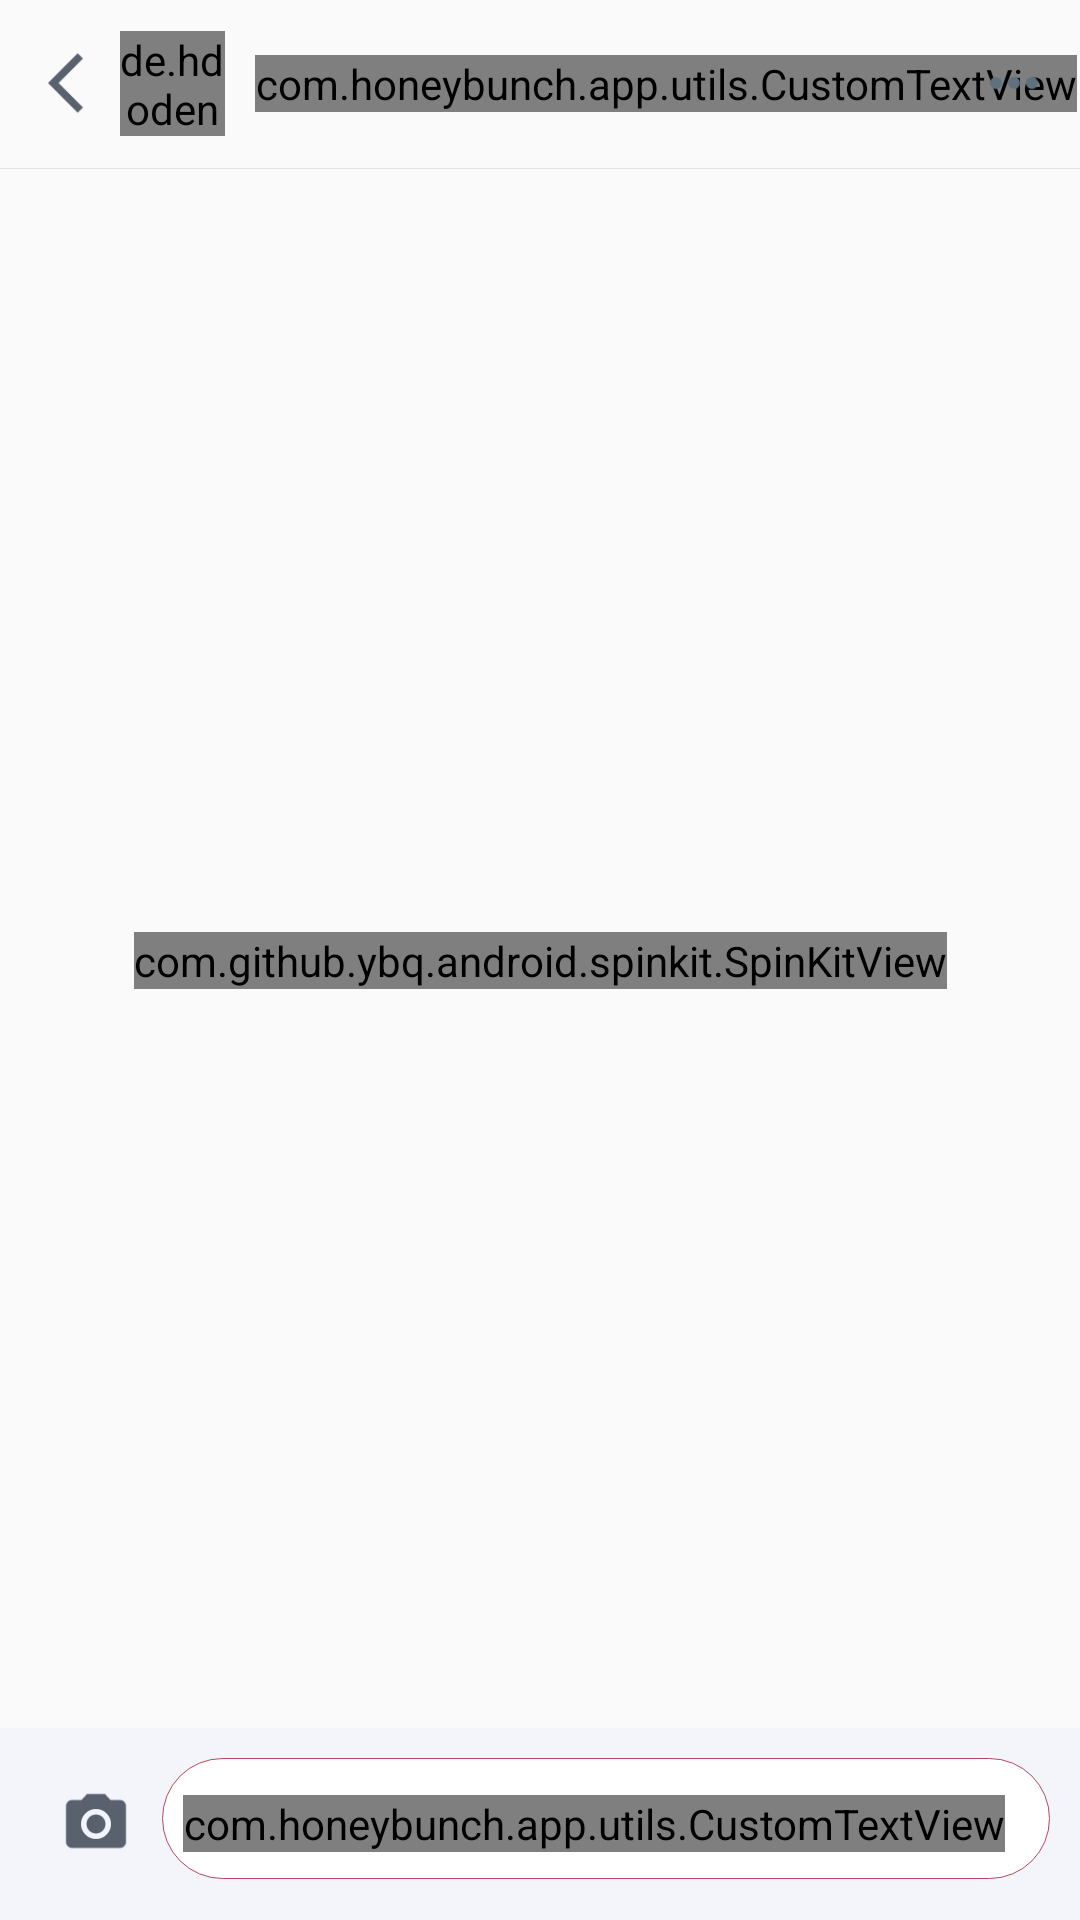

Icon bounding boxes for this 1080*1920 phone screenshot, format (x1, y1, x2, y2):
arrow back: (48, 53, 83, 113)
camera: (65, 1793, 127, 1849)
